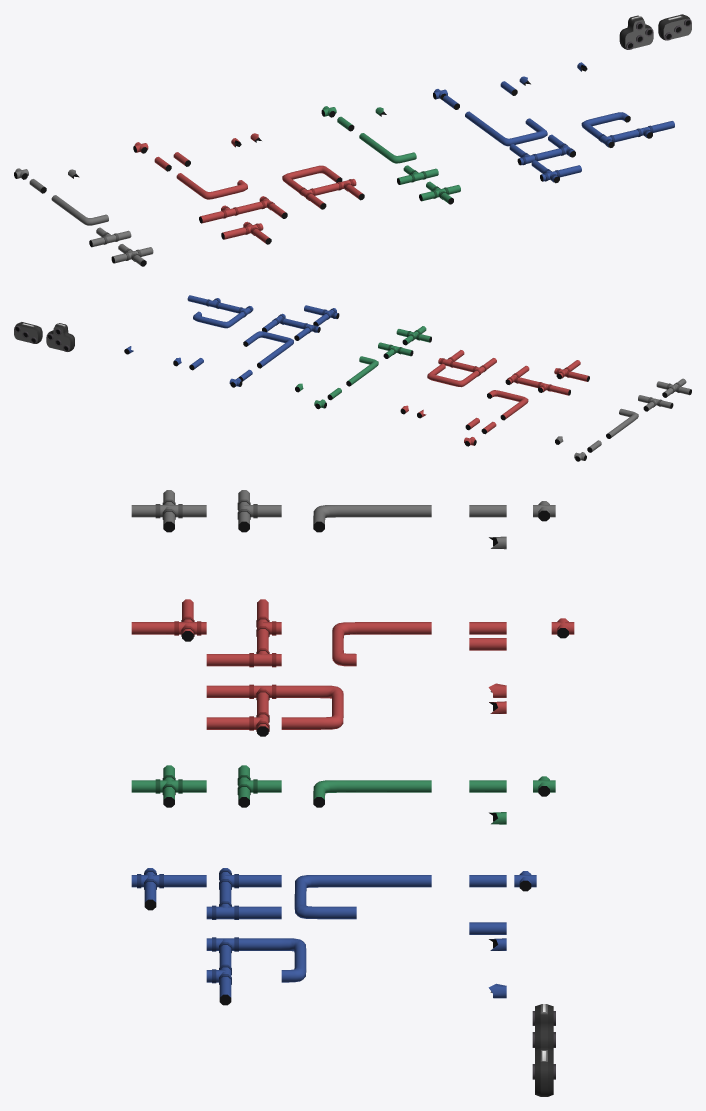
Rendered from atmospherics pipes.fbx.
3 views of the same model, one above another, from view 1: azimuth 30°, elevation 25°; view 2: azimuth 150°, elevation 25°; view 3: azimuth 270°, elevation 25° (orthographic). The views are drawn at different scales.
Parts seen in each view (by area): view 1: Pipe 4 Layer Manifold, Pipe 3 Layer Manifold, Pipes L3 Lower X, Pipes L4 Upper X, Pipes L1 Lower X, Pipes L2 Lower X, Pipes L1 Lower T-1, Pipes L1 Lower T-3, Pipes L3 Lower T-4, Pipes L3 Lower T-2, Pipes L4 Upper T, Pipes L2 Lower T (+2 smaller); view 2: Pipe 4 Layer Manifold, Pipe 3 Layer Manifold, Pipes L2 Lower X, Pipes L3 Lower X, Pipes L4 Upper X, Pipes L1 Lower X, Pipes L1 Lower T-1, Pipes L3 Lower T-4, Pipes L3 Lower T-2, Pipes L2 Lower T, Pipes L1 Lower T-3, Pipes L4 Upper T (+2 smaller); view 3: Pipes L1 Lower X, Pipes L2 Lower X, Pipes L4 Upper X, Pipes L3 Lower X, Pipes L3 Lower T-2, Pipes L3 Lower T-4, Pipes L1 Lower T-3, Pipes L1 Lower T-2, Pipes L1 Lower T-1, Pipes L3 Lower L-4, Pipe 3 Layer Manifold, Pipes L3 Lower T-3 (+9 smaller).
Part boxes in pixels (bbox=[...]): Pipe 4 Layer Manifold: bbox=[619, 15, 653, 49]; Pipe 3 Layer Manifold: bbox=[658, 14, 691, 40]; Pipes L3 Lower X: bbox=[221, 221, 271, 244]; Pipes L4 Upper X: bbox=[111, 244, 153, 266]; Pipes L1 Lower X: bbox=[531, 160, 581, 183]; Pipes L2 Lower X: bbox=[419, 181, 460, 204]; Pipes L1 Lower T-1: bbox=[509, 144, 559, 165]; Pipes L1 Lower T-3: bbox=[586, 125, 636, 147]; Pipes L3 Lower T-4: bbox=[316, 179, 364, 200]; Pipes L3 Lower T-2: bbox=[239, 196, 287, 218]; Pipes L4 Upper T: bbox=[89, 227, 131, 247]; Pipes L2 Lower T: bbox=[397, 165, 438, 184]; Pipe 4 Layer Manifold: bbox=[46, 323, 74, 351]; Pipe 3 Layer Manifold: bbox=[14, 322, 42, 343]; Pipes L2 Lower X: bbox=[396, 326, 431, 345]; Pipes L3 Lower X: bbox=[554, 360, 589, 381]; Pipes L4 Upper X: bbox=[656, 378, 691, 397]; Pipes L1 Lower X: bbox=[304, 305, 339, 325]; Pipes L1 Lower T-1: bbox=[285, 319, 320, 340]; Pipes L3 Lower T-4: bbox=[438, 350, 472, 371]; Pipes L3 Lower T-2: bbox=[505, 365, 537, 387]; Pipes L2 Lower T: bbox=[378, 342, 413, 358]; Pipes L1 Lower T-3: bbox=[220, 303, 253, 323]; Pipes L4 Upper T: bbox=[638, 395, 673, 411]; Pipes L1 Lower X: bbox=[131, 868, 206, 910]; Pipes L2 Lower X: bbox=[131, 765, 206, 807]; Pipes L4 Upper X: bbox=[131, 490, 206, 532]; Pipes L3 Lower X: bbox=[131, 599, 206, 641]; Pipes L3 Lower T-2: bbox=[206, 631, 281, 667]; Pipes L3 Lower T-4: bbox=[206, 694, 269, 736]; Pipes L1 Lower T-3: bbox=[206, 937, 281, 965]; Pipes L1 Lower T-2: bbox=[206, 899, 281, 919]; Pipes L1 Lower T-1: bbox=[219, 868, 281, 902]; Pipes L3 Lower L-4: bbox=[281, 694, 343, 729]; Pipe 3 Layer Manifold: bbox=[532, 1048, 555, 1096]; Pipes L3 Lower T-3: bbox=[206, 684, 281, 700].
Size of the model in its own units: 17.89 by 0.724 by 5.9.
